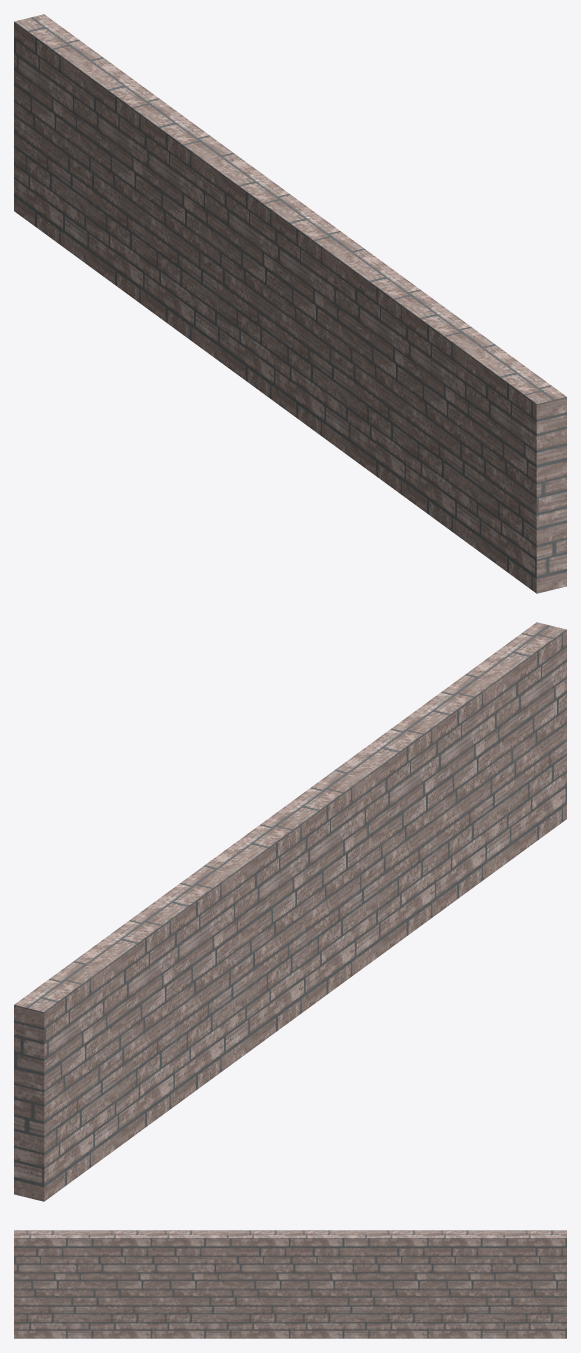
File: Kabe01x6m.FBX
The picture shows the model from 3 angles, top to bottom: view 1: azimuth 30°, elevation 25°; view 2: azimuth 150°, elevation 25°; view 3: azimuth 270°, elevation 25°; orthographic projection. The views are drawn at different scales.
Visible parts, largest first — view 1: Kabe01x6m; view 2: Kabe01x6m; view 3: Kabe01x6m.
Part boxes in pixels (bbox=[...]): Kabe01x6m: bbox=[14, 14, 566, 593]; Kabe01x6m: bbox=[14, 622, 566, 1201]; Kabe01x6m: bbox=[14, 1230, 566, 1338].
Size of the model in its own units: 7.87 by 47.24 by 236.
